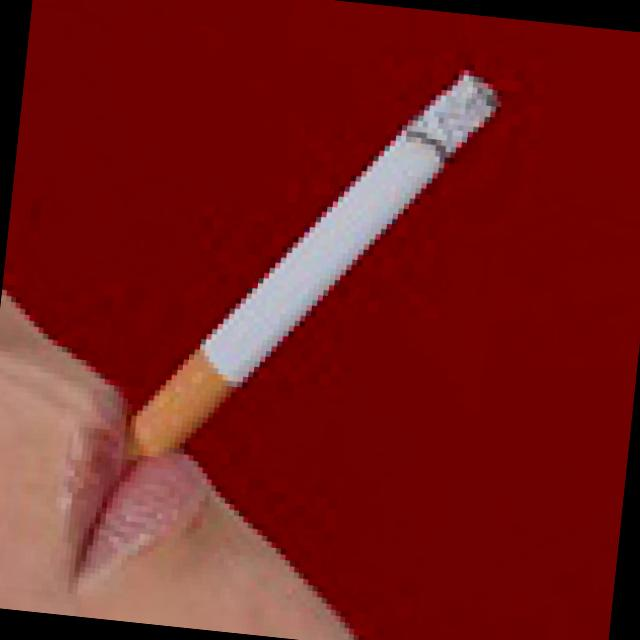cigarette: (147, 28, 510, 476)
